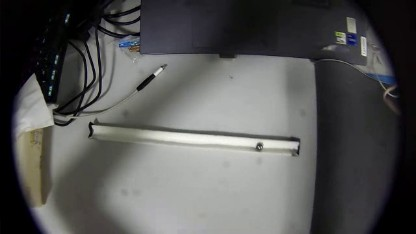gangzhu: (255, 141, 264, 150)
